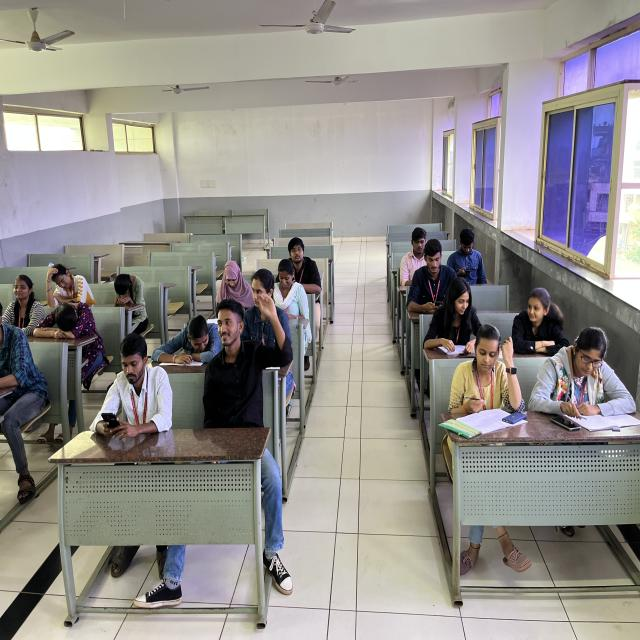Hand Rising: (207, 287, 292, 419)
Reading: (429, 275, 483, 351)
Sleeping: (36, 298, 100, 363)
Using Phone: (88, 324, 172, 450), (395, 216, 451, 289), (410, 230, 458, 310), (450, 212, 494, 290), (271, 260, 316, 321), (211, 258, 253, 306)
Writing: (561, 316, 640, 427), (452, 328, 510, 422)
